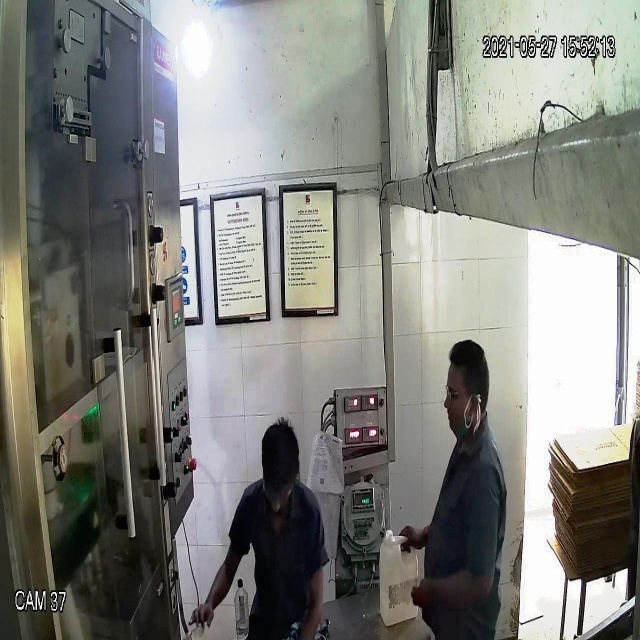Gafas: (441, 376, 485, 412)
